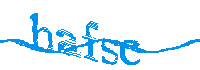a: (55, 29, 80, 59)
c: (119, 37, 144, 66)
f: (82, 18, 100, 66)
h: (30, 12, 54, 52)
s: (100, 35, 121, 66)
